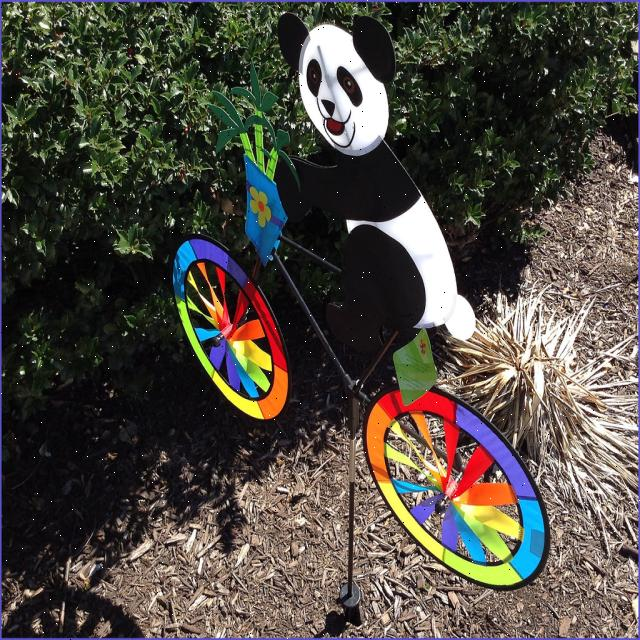panda: (273, 6, 474, 342)
